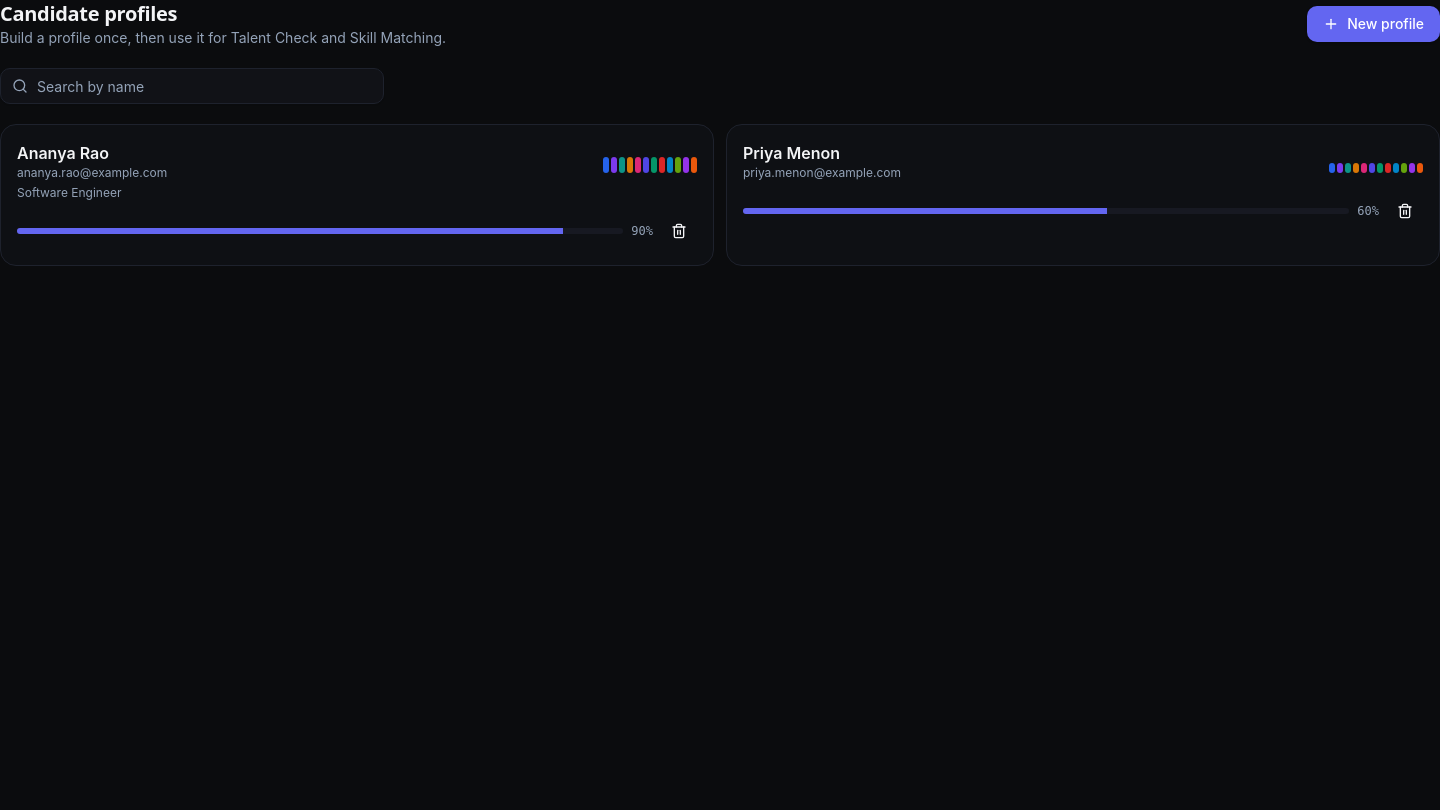
ProfilesListPage › lists profiles, searches, and deletes after confirmation
Expected: the link "Ananya Rao" is shown, [17,143,109,163]
Step 1. Type "priya" into the field named "search profiles" → (192, 86), box [0,68,384,104]
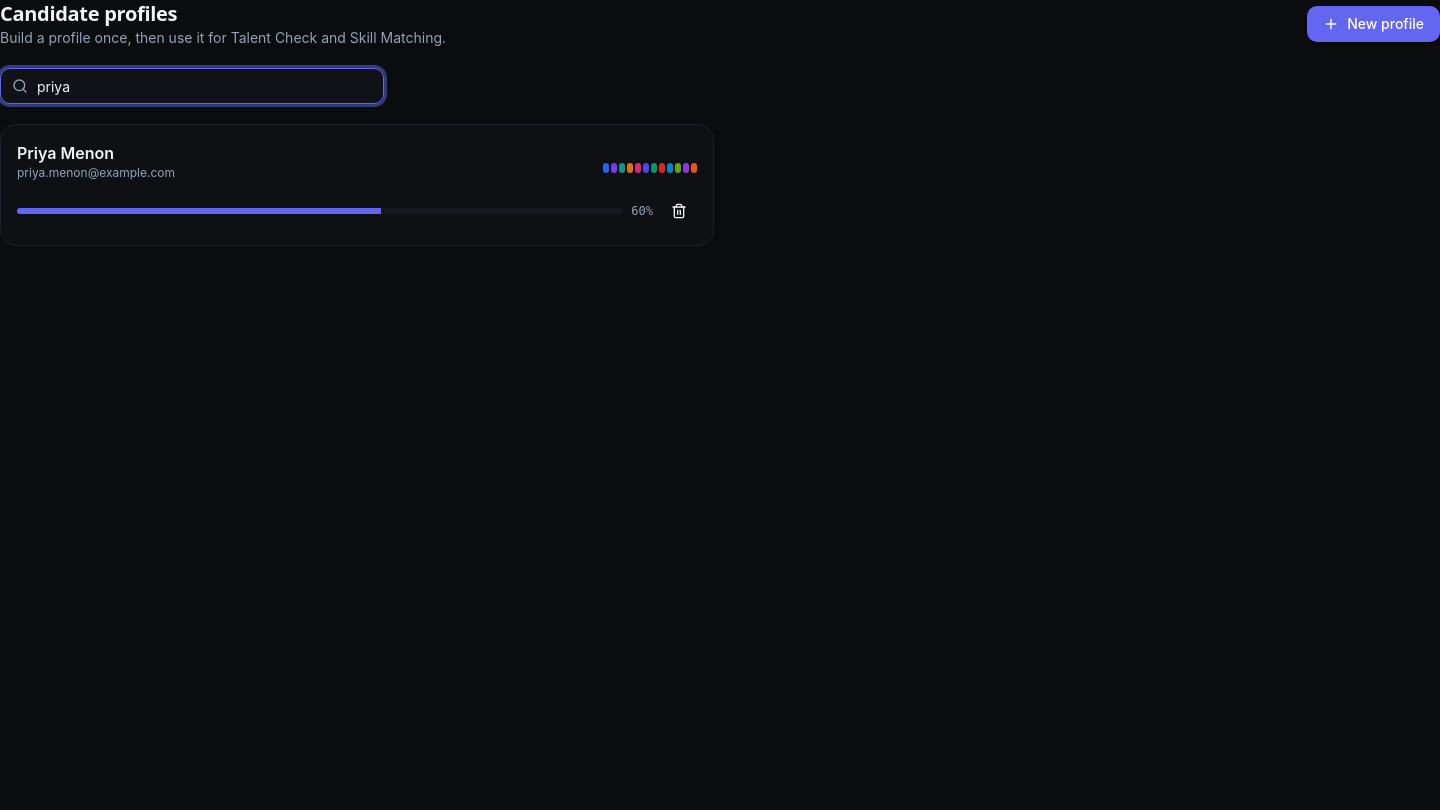
Now the link "Ananya Rao" is gone
Step 2. Click the button named "Delete Priya Menon" → (679, 211), box [661,193,697,229]
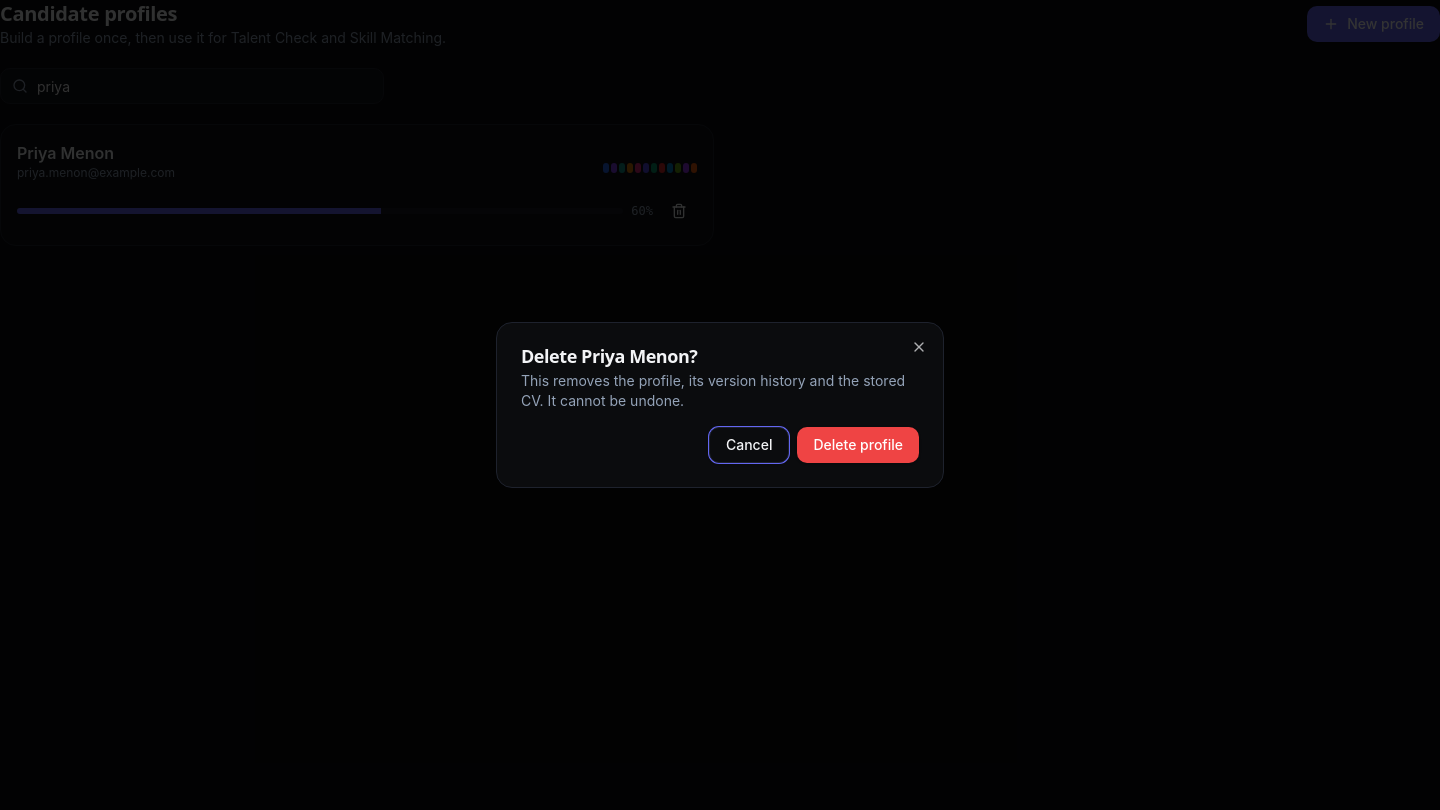
Step 3. Click the button "Delete profile" → (858, 445), box [797,427,919,463]
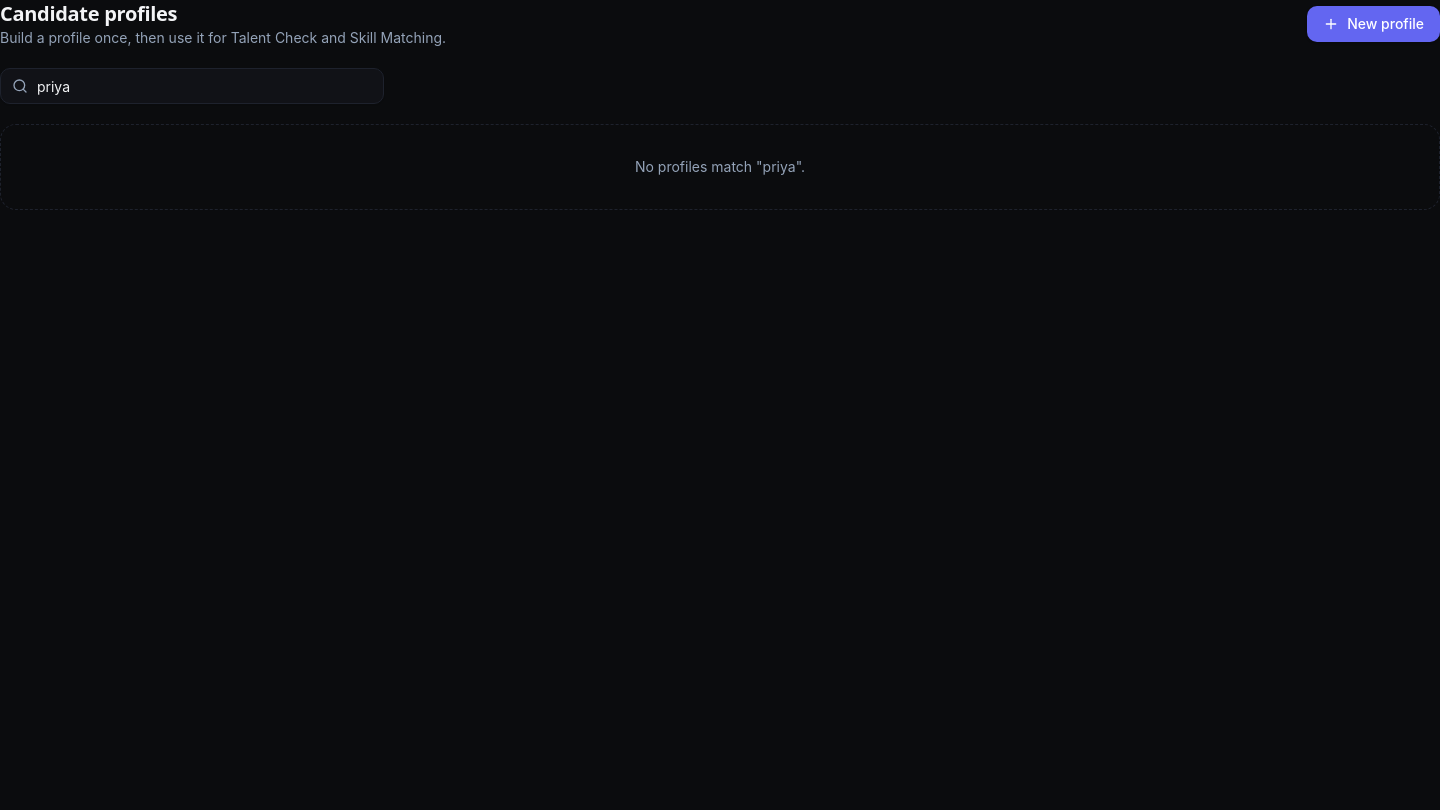
Now the link "Priya Menon" is gone
